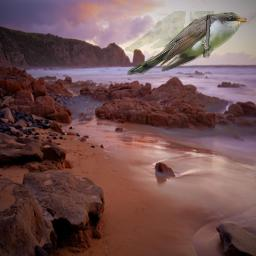Cuckoo: (125, 11, 247, 75)
